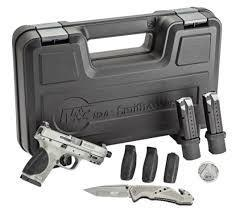Knife: (83, 184, 194, 206)
Pistol: (21, 121, 113, 181)
